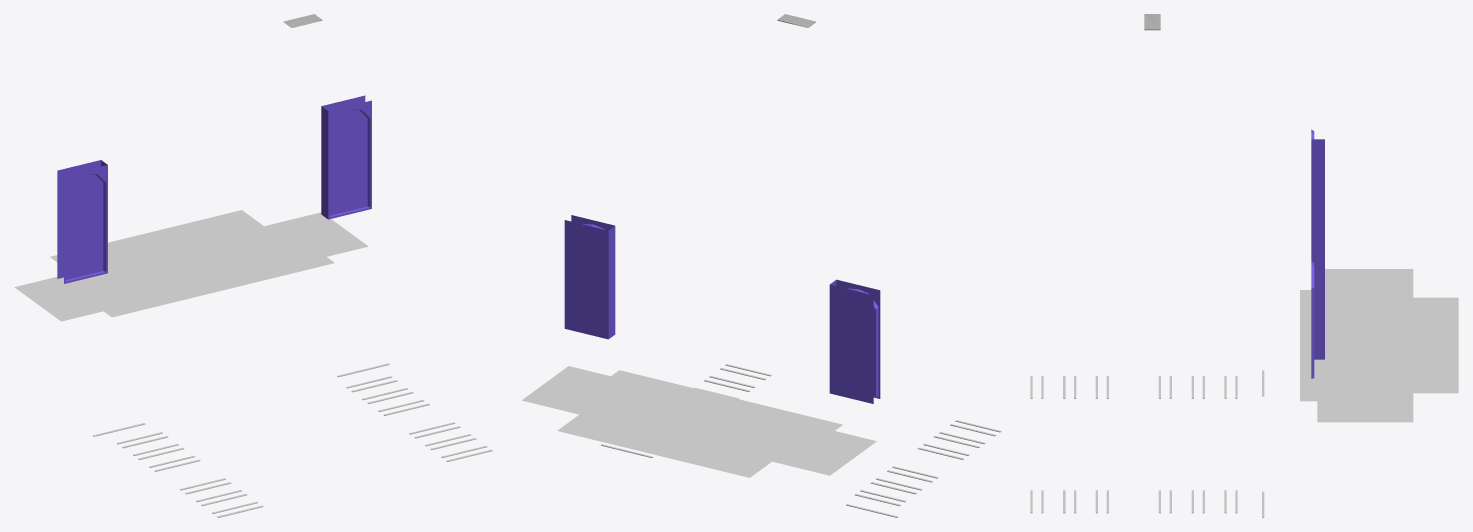
The model's file is Block 11 Fixes.fbx.
The picture shows the model from 3 angles, left to right: view 1: azimuth 30°, elevation 25°; view 2: azimuth 150°, elevation 25°; view 3: azimuth 270°, elevation 25°; orthographic projection. The views are drawn at different scales.
Parts seen in each view (by area): view 1: organ_floor.008, organ_WALL.003, cathedral_Decledge.001; view 2: organ_floor.008, organ_WALL.003, cathedral_Decledge.001; view 3: organ_floor.008, organ_WALL.003, cathedral_Decledge.001.
Boxes of the visible parts, <box> form: organ_floor.008: <box>14,210,368,321</box>; organ_WALL.003: <box>57,95,371,283</box>; cathedral_Decledge.001: <box>93,363,492,517</box>; organ_floor.008: <box>521,366,876,477</box>; organ_WALL.003: <box>564,215,880,403</box>; cathedral_Decledge.001: <box>601,364,1001,517</box>; organ_floor.008: <box>1300,269,1458,422</box>; organ_WALL.003: <box>1311,129,1324,378</box>; cathedral_Decledge.001: <box>1030,370,1264,517</box>.
Bounding box in the file's own units: 11083 × 14384 × 13084.
